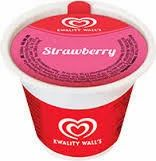Kwality_Walls: (59, 115, 97, 142), (60, 16, 97, 29)
